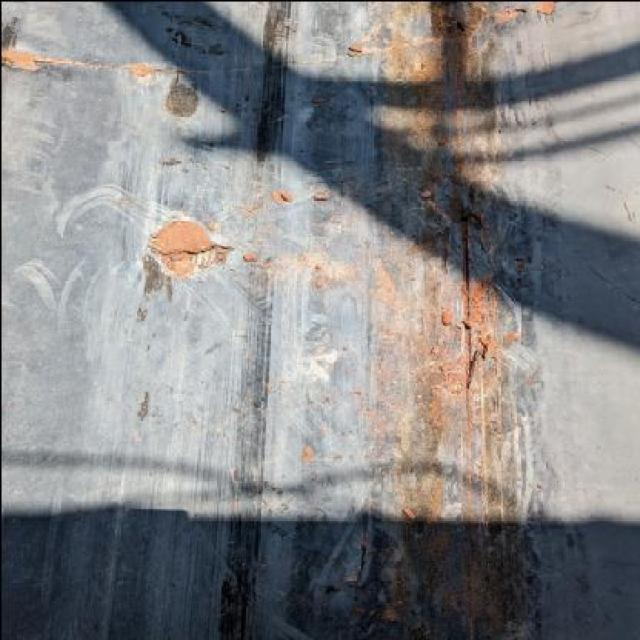Wear: (339, 0, 562, 640)
